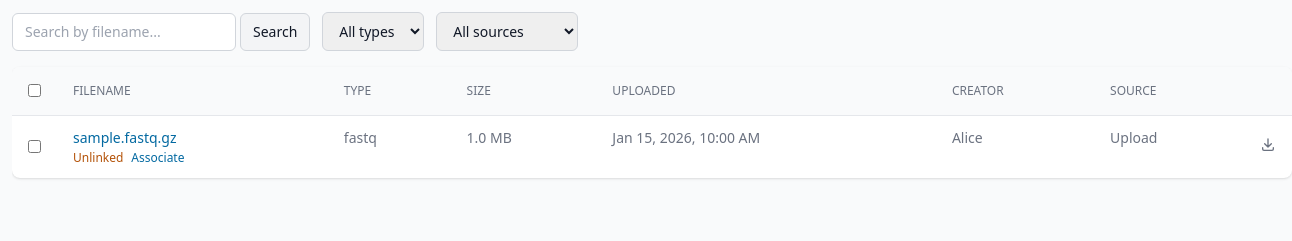
Test: search surfaces Lab Knowledge documents with a badge and detail link
Expected: the text "sample.fastq.gz" is shown, x1=73 y1=128 x2=176 y2=148
Type "assay" into the field with placeholder "Search by filename...".
click(124, 32); type("assay")  # box x1=12 y1=12 x2=236 y2=50
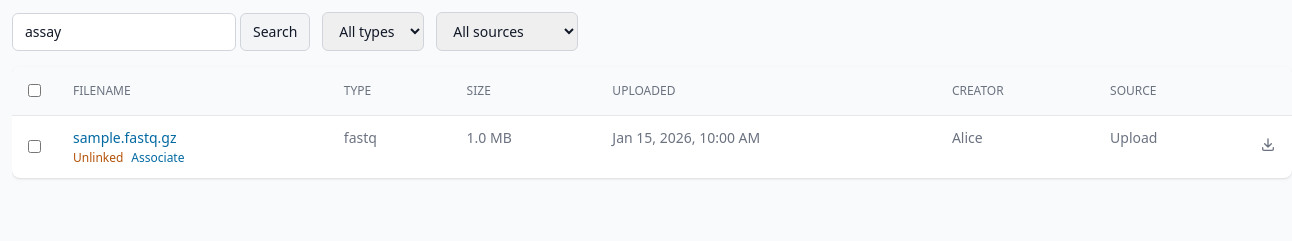
Submit the form with placeholder "search by filename", box x1=12 y1=12 x2=310 y2=50
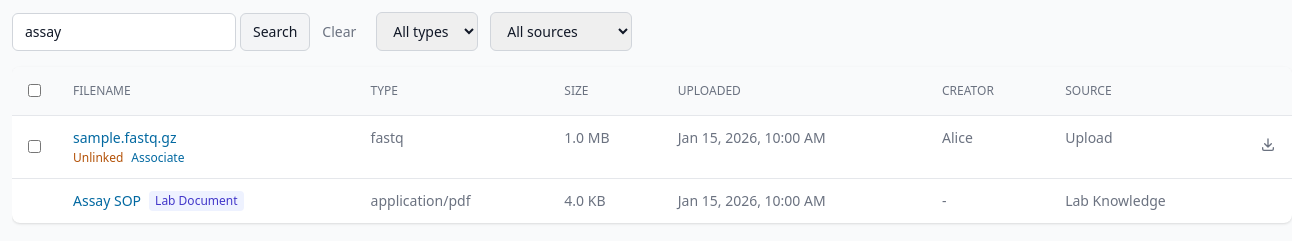
Expected: the link "Assay SOP" is shown, x1=73 y1=191 x2=141 y2=211
Expected: the text "Lab Document" is shown, x1=149 y1=191 x2=244 y2=211
